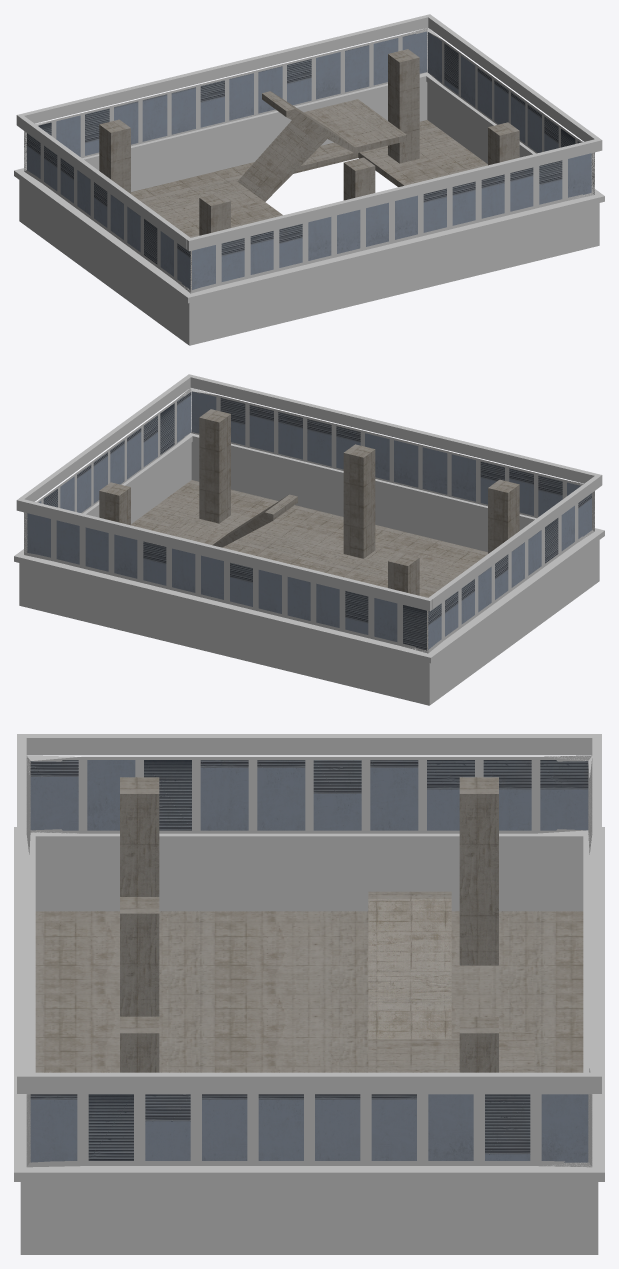
File: Ruin2B_LOD1.fbx
3 renders of one model, top to bottom at view 1: azimuth 30°, elevation 25°; view 2: azimuth 150°, elevation 25°; view 3: azimuth 270°, elevation 25°, orthographic. The views are drawn at different scales.
Parts seen in each view (by area): view 1: polySurface349; view 2: polySurface349; view 3: polySurface349.
Part boxes in pixels (x1,y1,x2,y2): polySurface349: (14, 14, 604, 345); polySurface349: (14, 374, 604, 705); polySurface349: (14, 734, 604, 1254).
Size of the model in its own units: 14.44 by 3.72 by 10.44.
